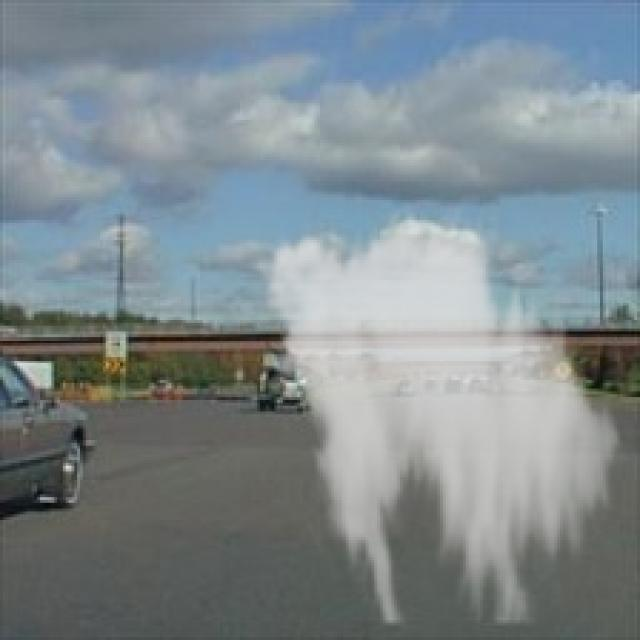smoke: (246, 203, 631, 626)
